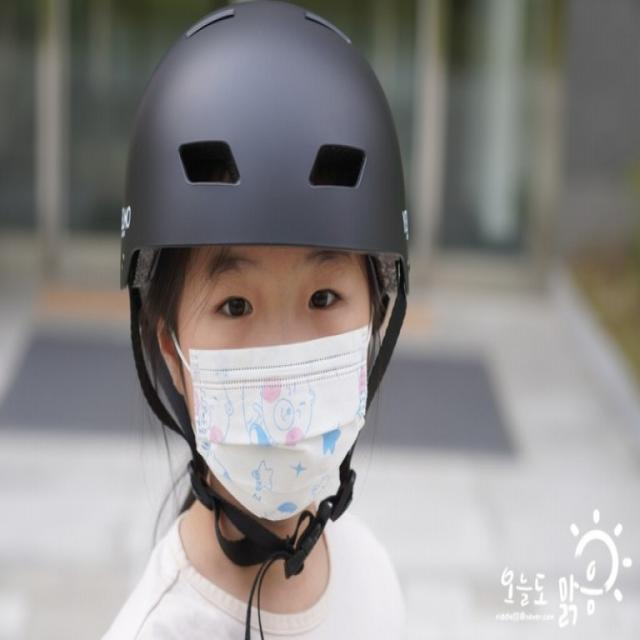Helmet: (114, 0, 416, 542)
